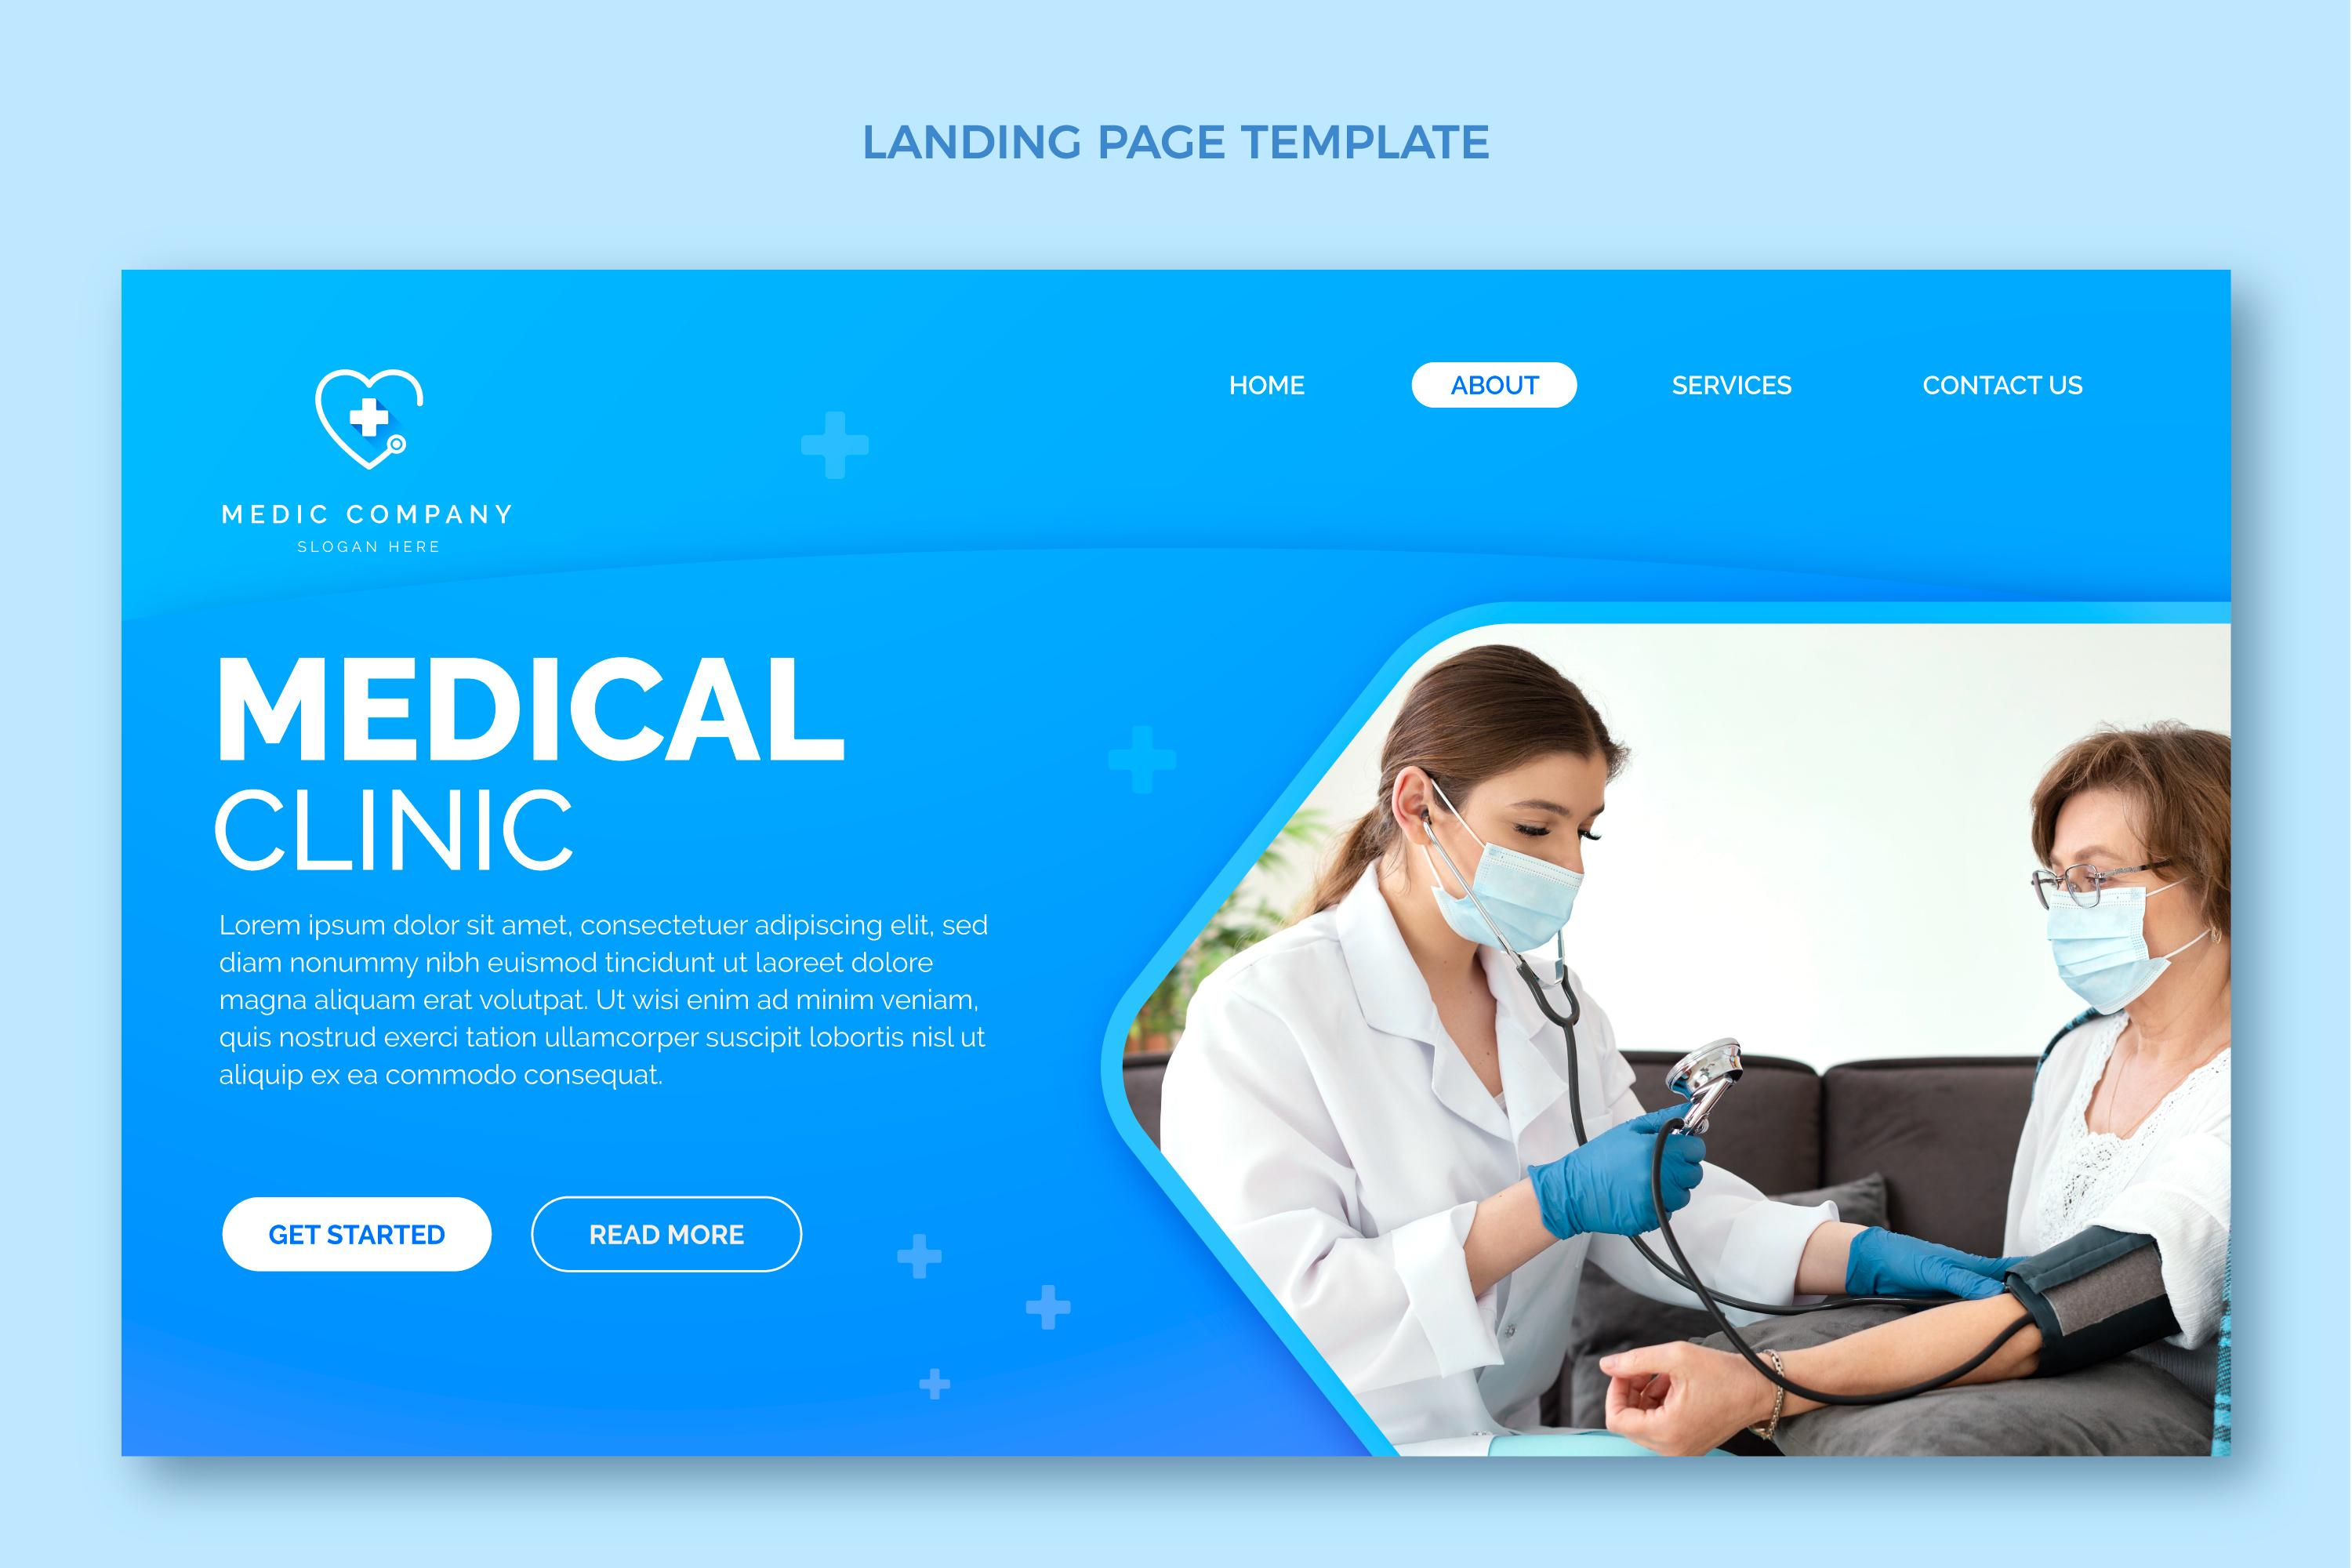menu-bar: (152, 305, 2212, 572)
